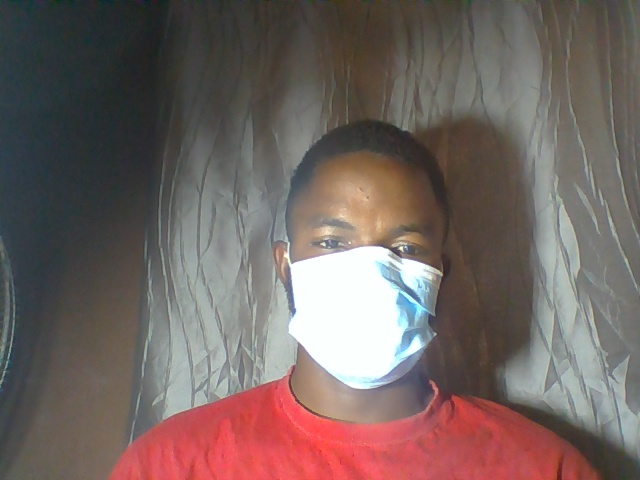MaskOn: (270, 120, 456, 390)
